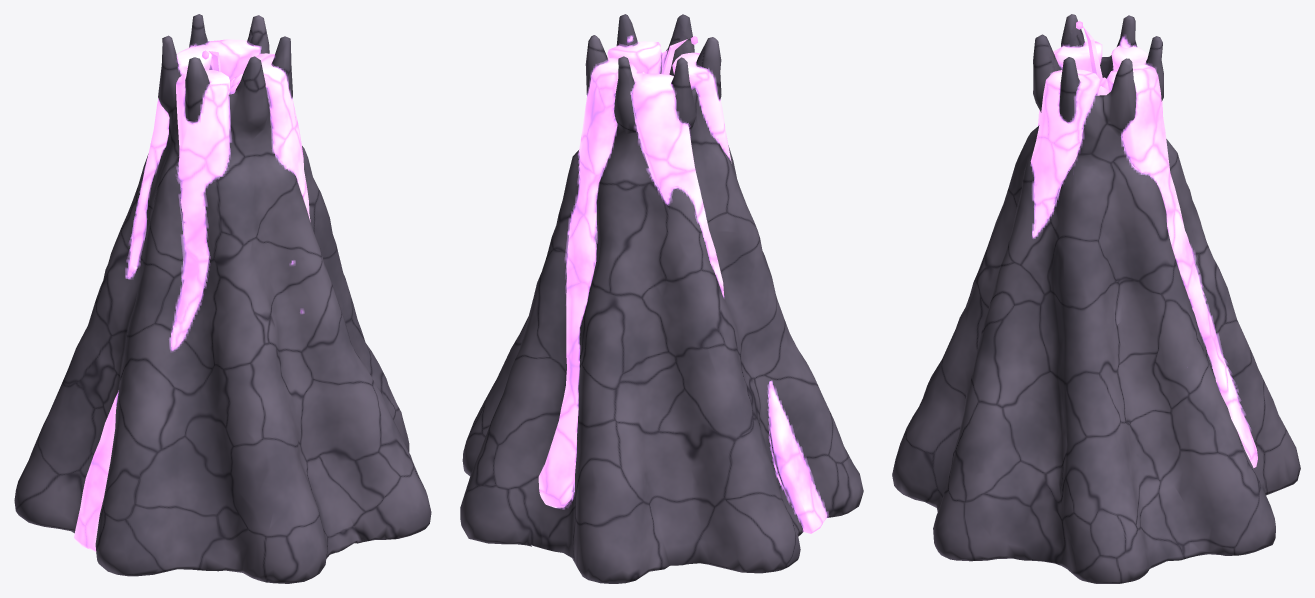
The model's file is volcan_pequeno.fbx.
The picture shows the model from 3 angles, left to right: view 1: azimuth 30°, elevation 25°; view 2: azimuth 150°, elevation 25°; view 3: azimuth 270°, elevation 25°; orthographic projection.
Parts seen in each view (by area): view 1: volcan, lava_neon; view 2: volcan, lava_neon; view 3: volcan, lava_neon.
Boxes of the visible parts, x1=… form: volcan: x1=14, y1=14, x2=431, y2=583; lava_neon: x1=74, y1=39, x2=310, y2=551; volcan: x1=460, y1=14, x2=863, y2=583; lava_neon: x1=538, y1=36, x2=826, y2=533; volcan: x1=892, y1=14, x2=1300, y2=583; lava_neon: x1=1030, y1=20, x2=1257, y2=467.
Bounding box in the file's own units: 4 × 5 × 4.01.
Materials: 1 (1 with a texture image).
